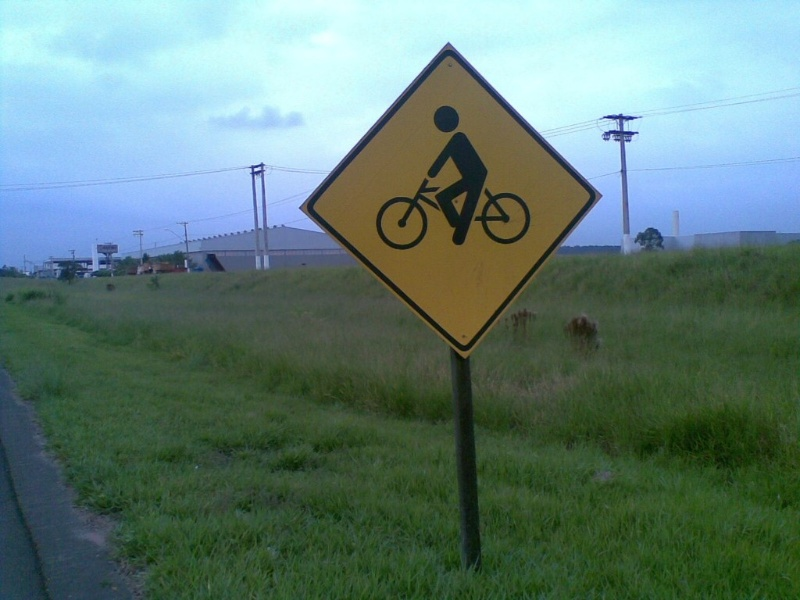cycle_route_ahead: (372, 165, 540, 255)
